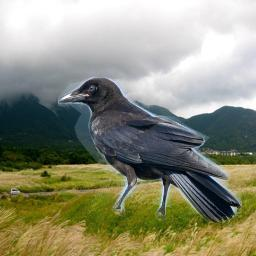Crow: (58, 77, 242, 223)
